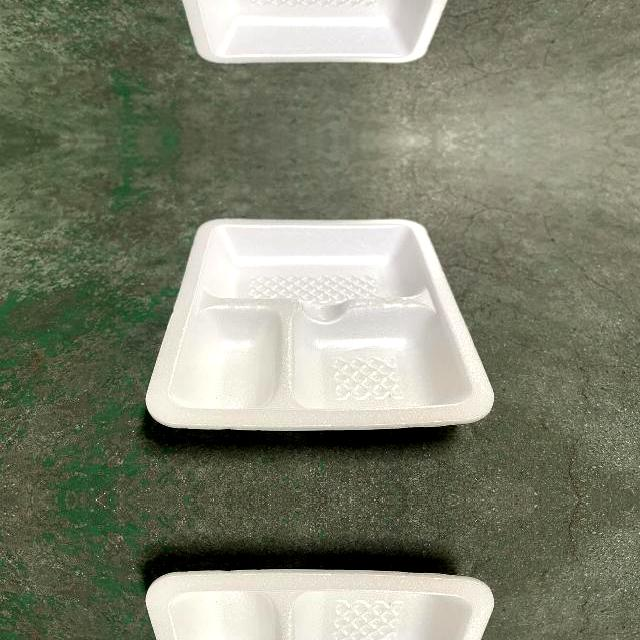Styrofoam: (146, 216, 494, 432), (146, 217, 495, 430), (145, 566, 494, 640), (146, 568, 495, 640), (145, 0, 494, 63), (182, 0, 447, 63)
